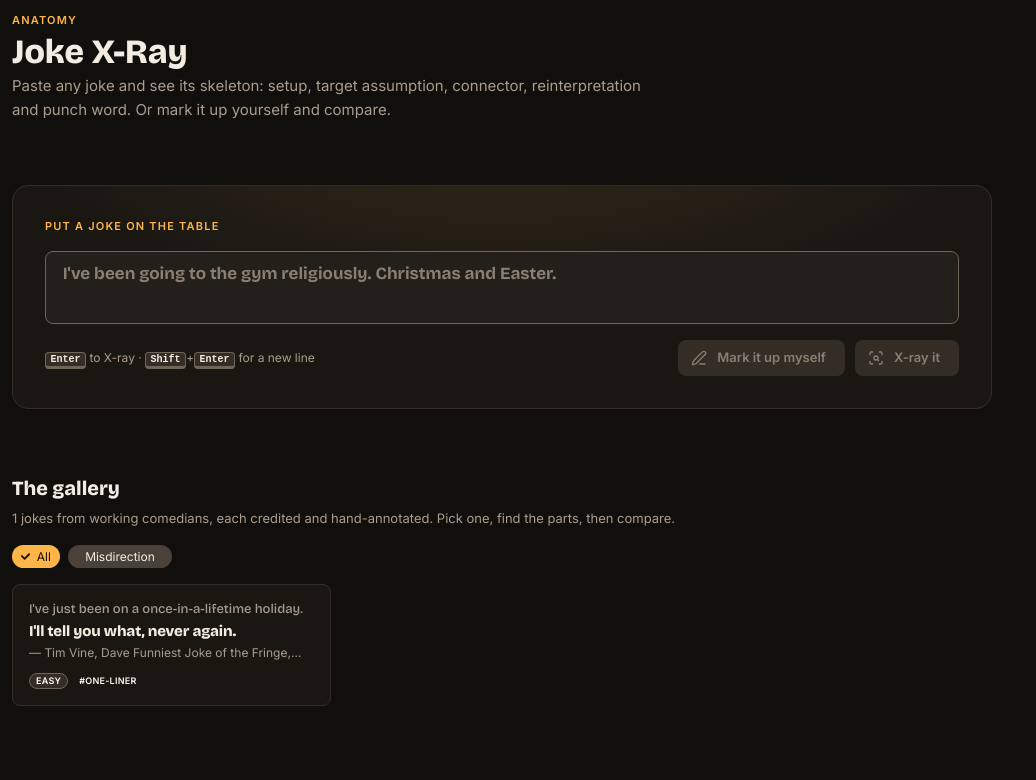
Test: x-rays a pasted joke and labels the estimate honestly
Type "My smart speaker is like a teenager. It only listens when I'm saying something private." into the text box named "Joke to X-ray" at (502, 288), box [45,251,959,324]
Then press Enter
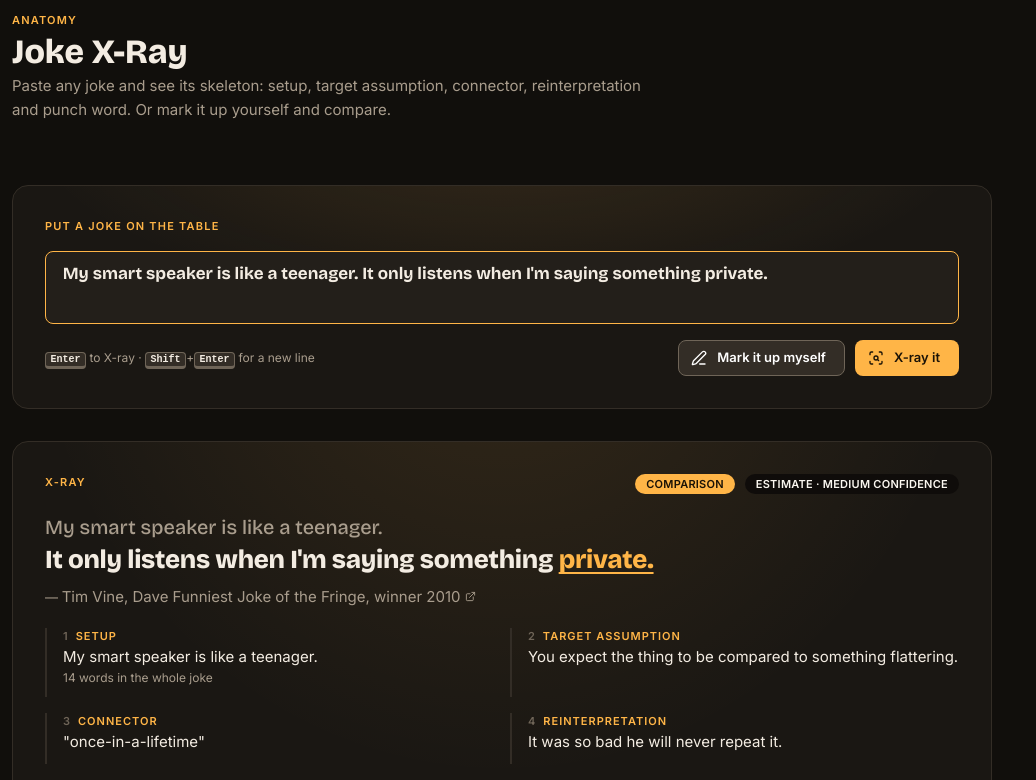
Now the text "Estimate · medium confidence" is shown, box [756,475,948,493]
Now the text "You expect the thing to be compared to something flattering." is shown, box [528,646,959,669]
Now the text with test id "punch-word" shows "private", box [559,544,654,575]
